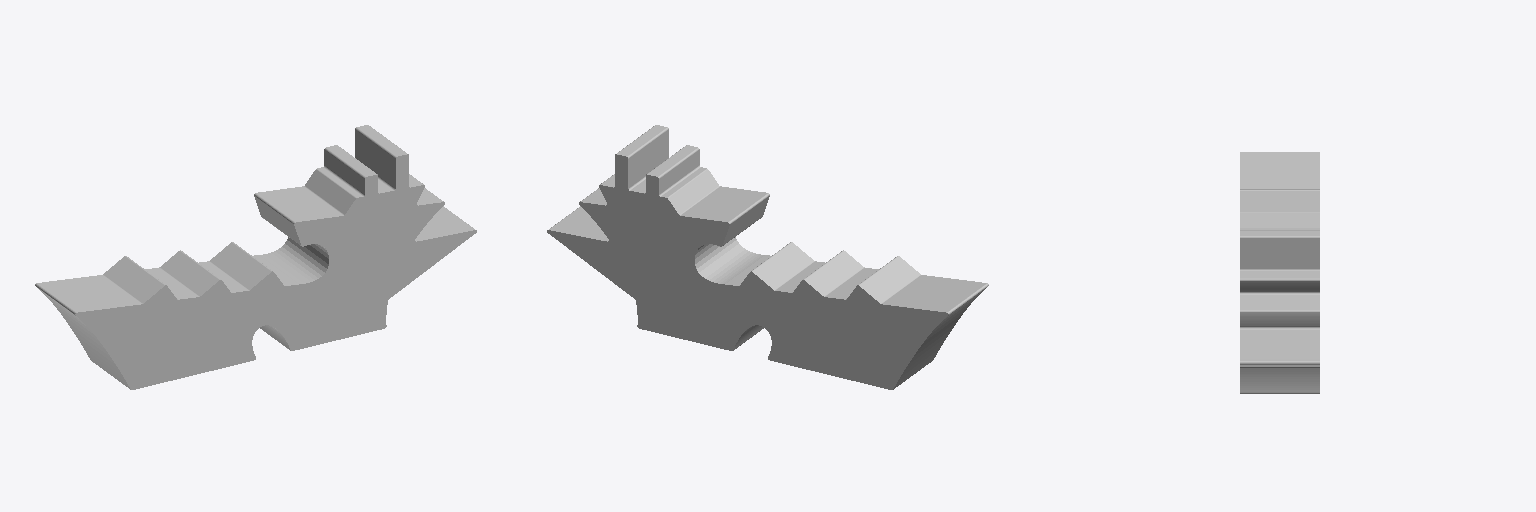
Rendered from meeple_fresh_ship.obj.
3 renders of one model, left to right at view 1: azimuth 30°, elevation 25°; view 2: azimuth 150°, elevation 25°; view 3: azimuth 270°, elevation 25°, orthographic.
Parts seen in each view (by area): view 1: meeples_ship_fresh; view 2: meeples_ship_fresh; view 3: meeples_ship_fresh.
Boxes of the visible parts, x1=… form: meeples_ship_fresh: x1=35, y1=125, x2=476, y2=389; meeples_ship_fresh: x1=547, y1=125, x2=988, y2=389; meeples_ship_fresh: x1=1240, y1=152, x2=1319, y2=393.
Bounding box in the file's own units: 0.8622 × 0.3466 × 0.15.